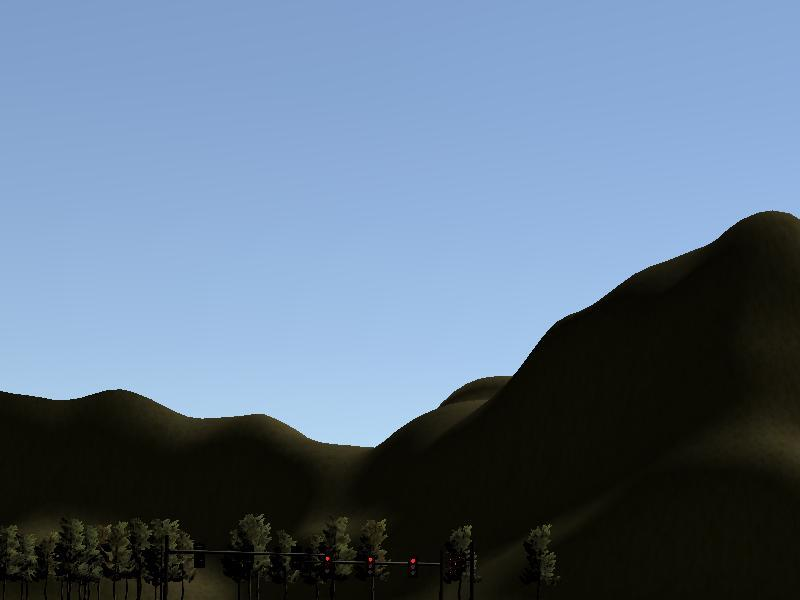Red: (408, 556, 418, 574), (323, 553, 331, 569), (366, 555, 375, 569)
